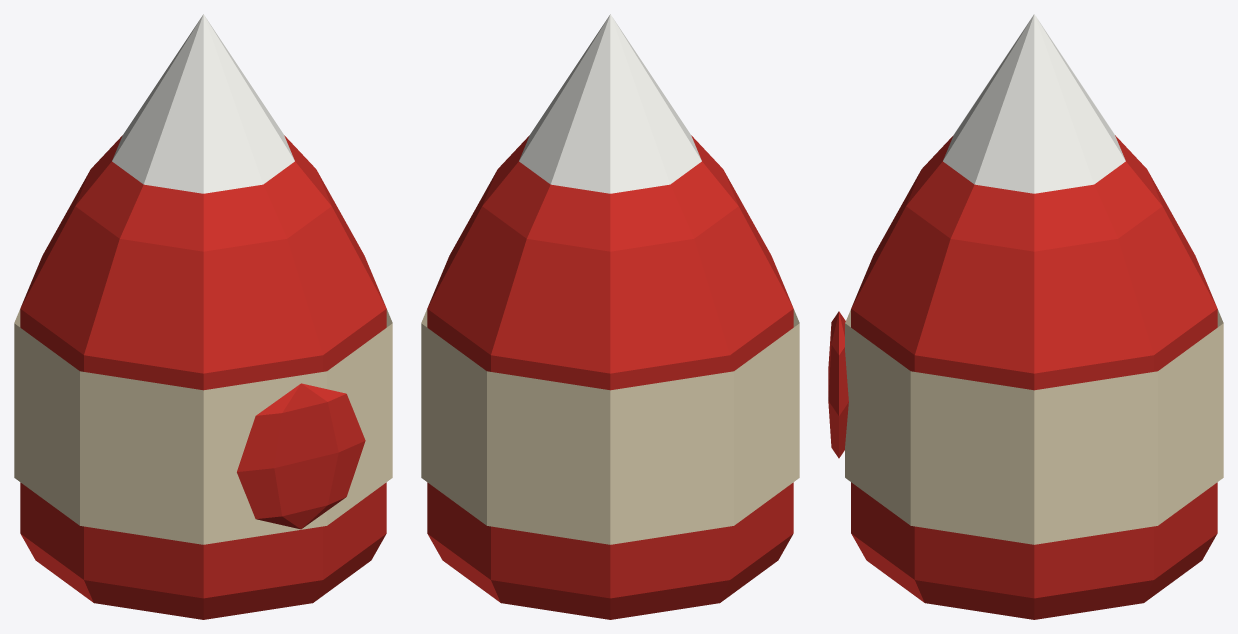
File: Food_Ketchup.obj
3 views of the same model, side by side, from view 1: azimuth 30°, elevation 25°; view 2: azimuth 150°, elevation 25°; view 3: azimuth 270°, elevation 25° (orthographic).
Size of the model in its own units: 1.2 by 1.9 by 1.28.
